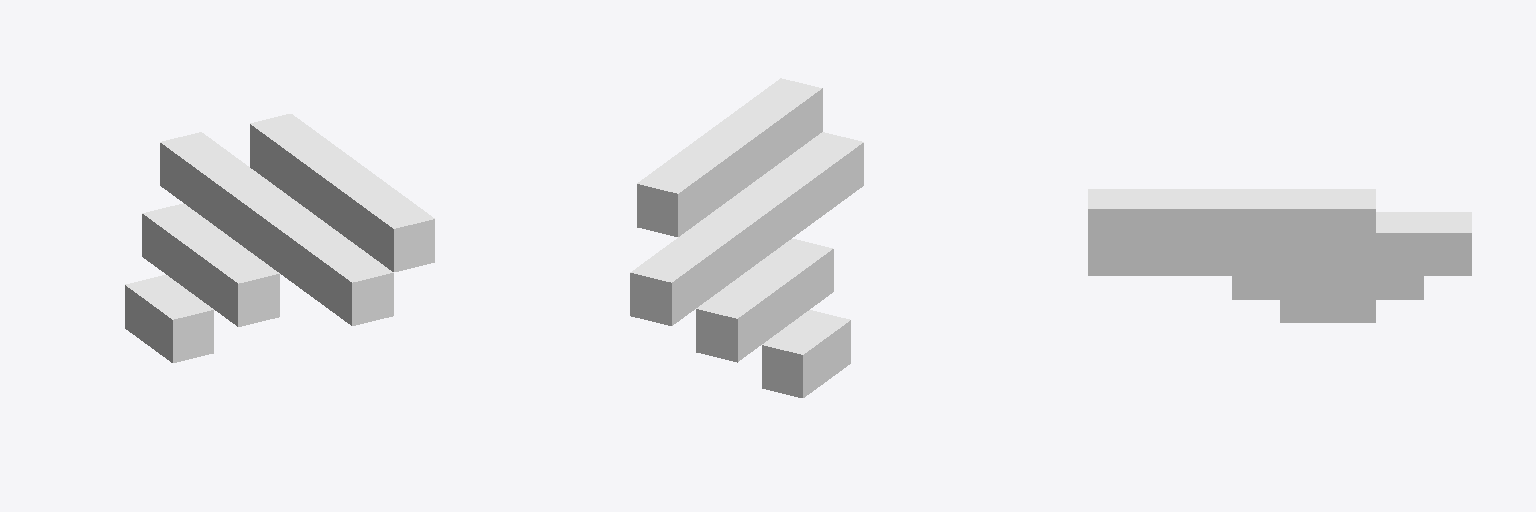
Rendered from YellowHouseParts-109.obj.
The picture shows the model from 3 angles: view 1: azimuth 30°, elevation 25°; view 2: azimuth 150°, elevation 25°; view 3: azimuth 270°, elevation 25°; orthographic projection.
Parts seen in each view (by area): view 1: object 1; view 2: object 1; view 3: object 1.
Boxes of the visible parts, x1=… form: object 1: x1=125, y1=114, x2=434, y2=362; object 1: x1=630, y1=78, x2=863, y2=397; object 1: x1=1088, y1=189, x2=1471, y2=322.
Bounding box in the file's own units: 0.4 × 0.4 × 0.8.